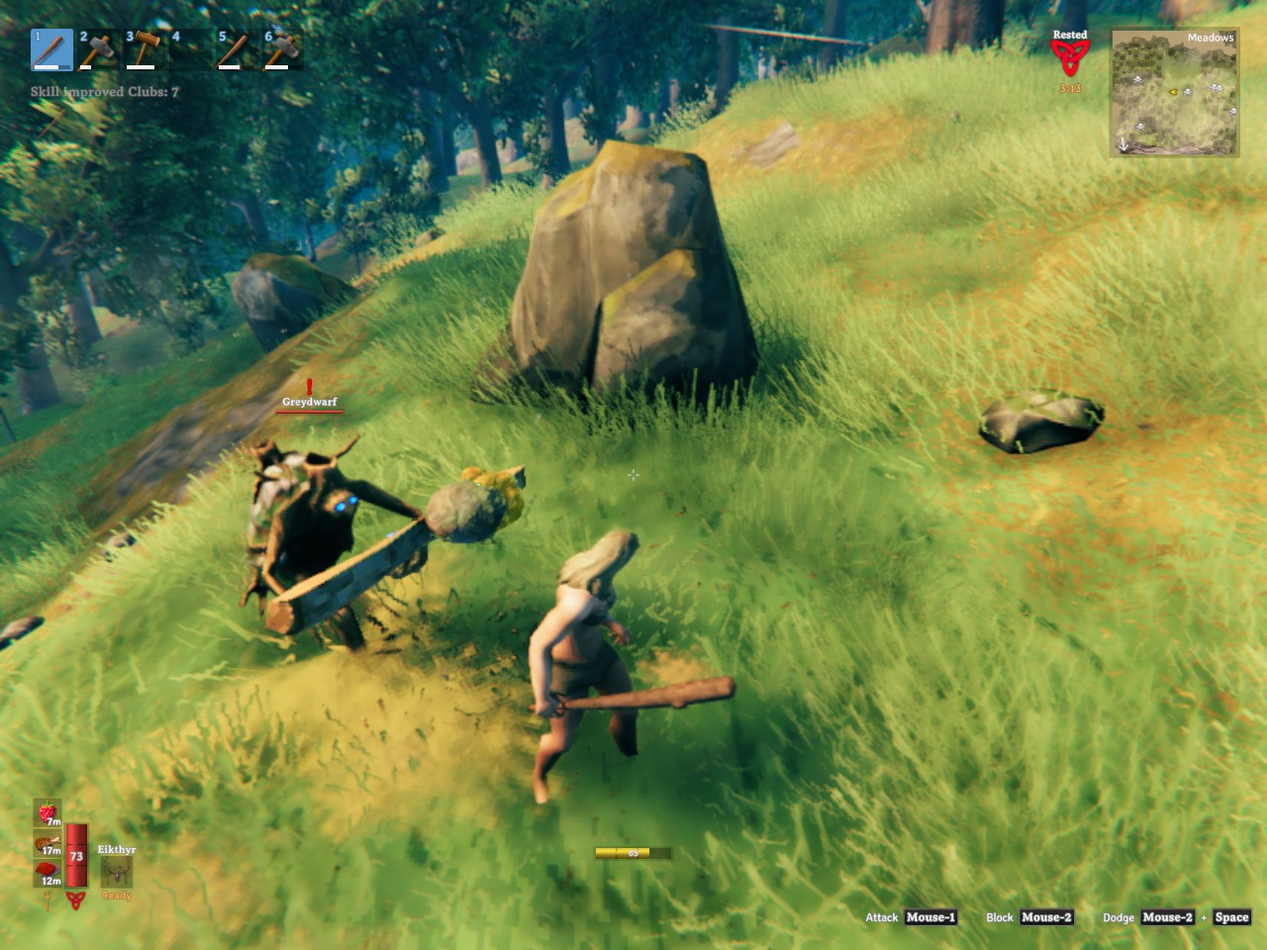Food Indicator: (36, 797, 63, 891)
Greydwarf: (242, 439, 421, 613)
Health Bar: (63, 820, 90, 891)
Hotbar: (25, 21, 398, 78)
Resin: (460, 466, 525, 525)
Stamina Bar: (590, 841, 677, 865)
Status Indicator: (1039, 25, 1106, 101)
Stone: (425, 480, 506, 542)
Wood: (265, 520, 435, 634)
